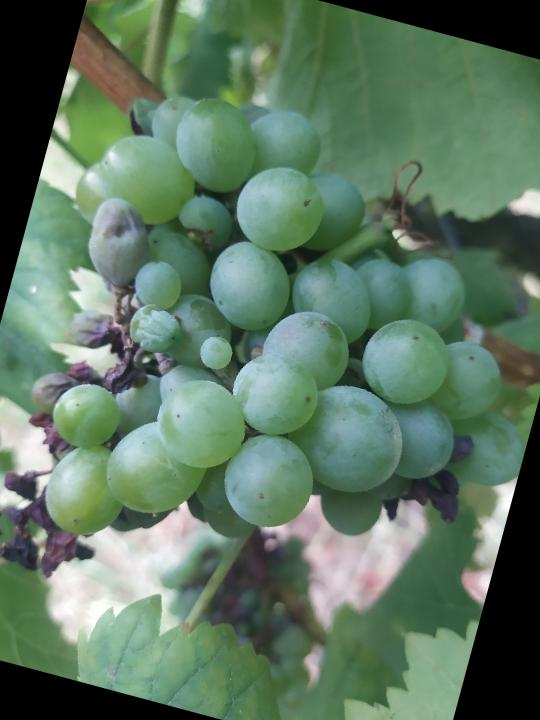grape: (0, 58, 540, 694)
